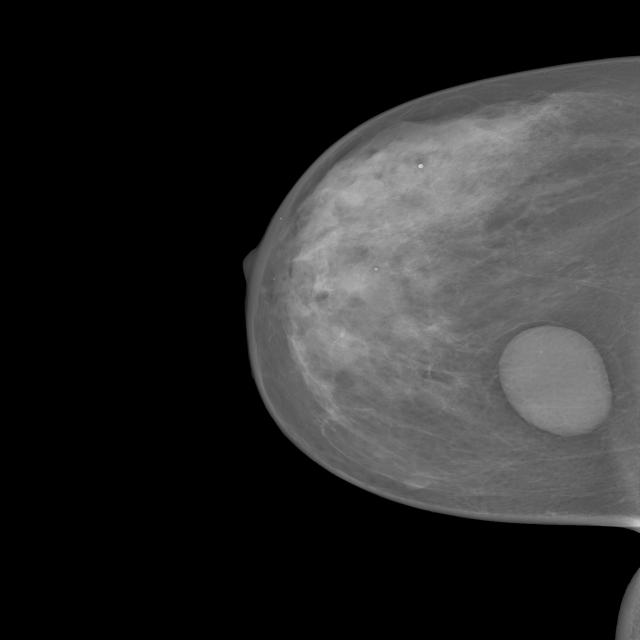Mass_1: (465, 296, 640, 467)
